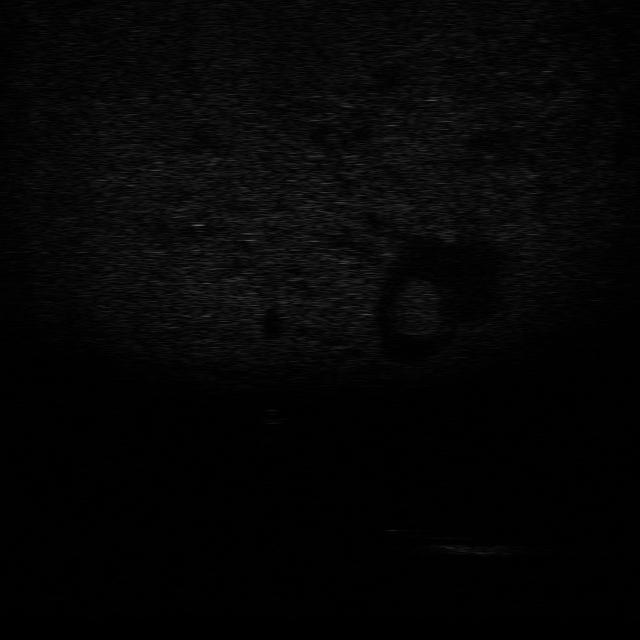ball: (258, 406, 290, 427)
metal bucket: (432, 536, 526, 560)
tyre: (382, 524, 478, 542)
